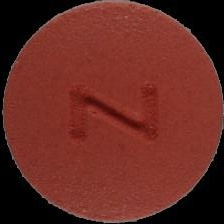67046-654: (0, 0, 224, 224)
